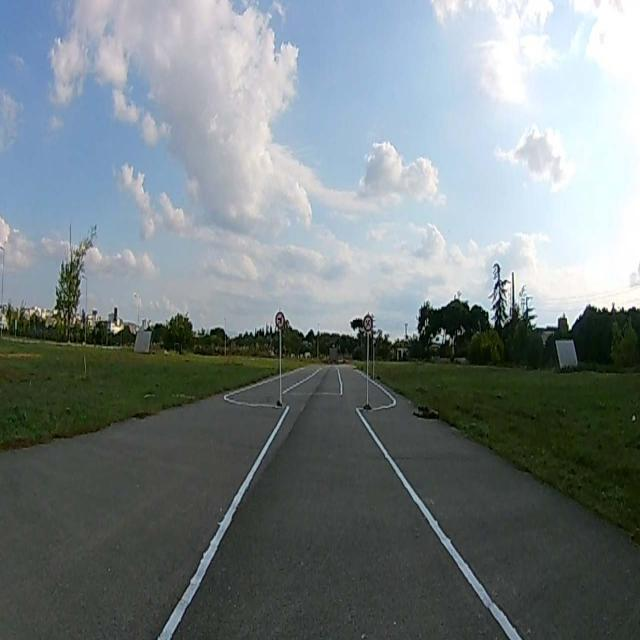30: (363, 316, 373, 332)
soladonulmez: (276, 313, 284, 328)
